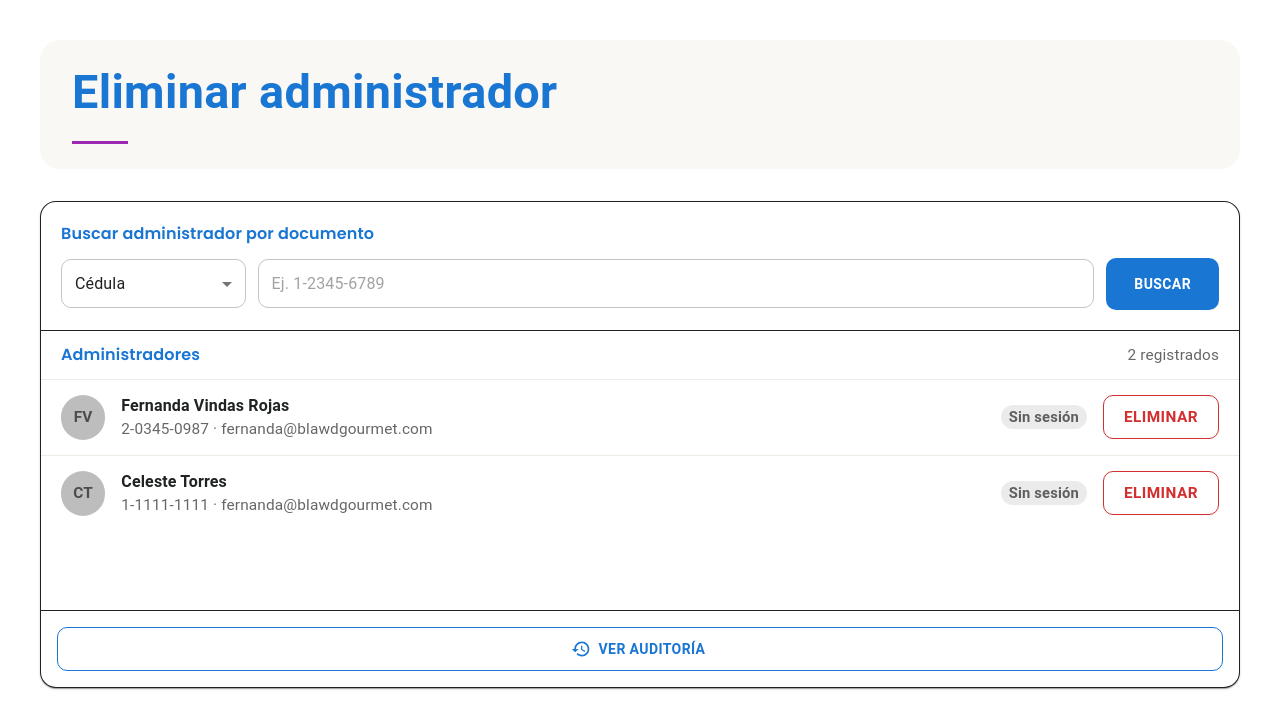
Test: AdminManagement audit log › filters the administrators by document and says when none matches
Check: the text "Celeste Torres" is shown, box x1=121 y1=472 x2=227 y2=491
In the field named "Número de documento": coordinates (676, 284) x1=258 y1=260 x2=1094 y2=308, type "1111"
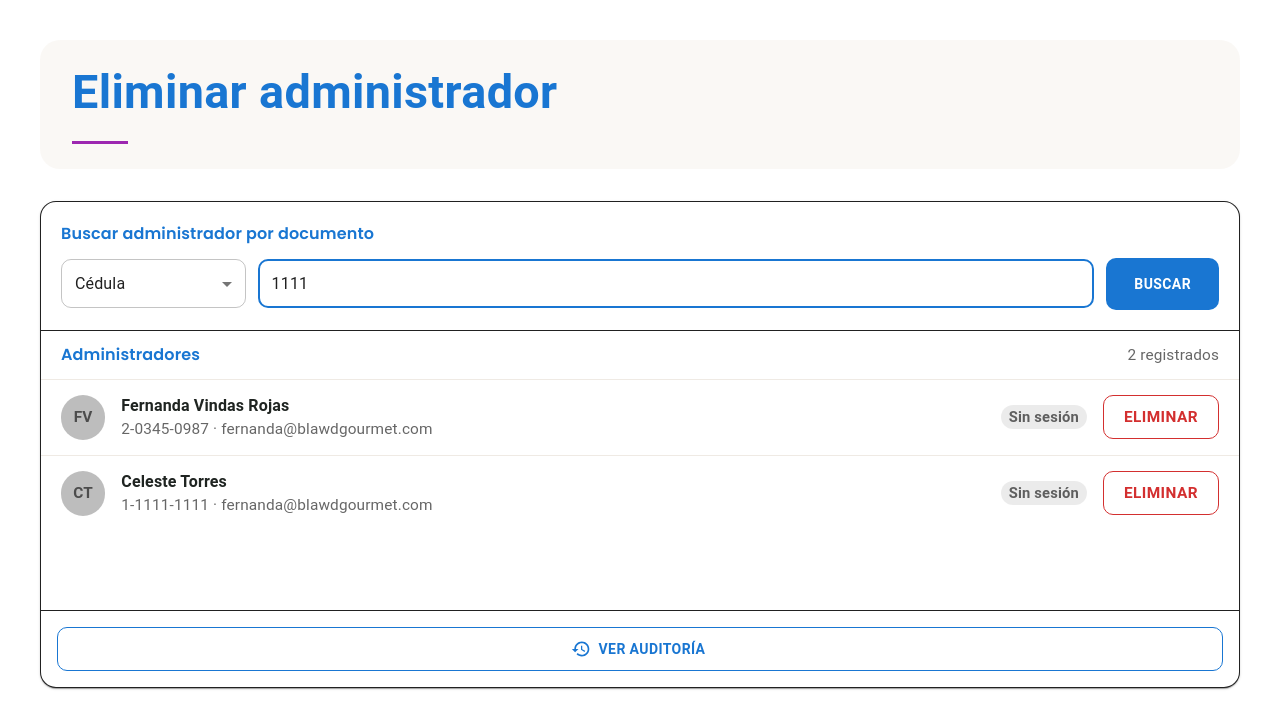
Click the button "Buscar": coordinates (1163, 284) x1=1106 y1=258 x2=1219 y2=310
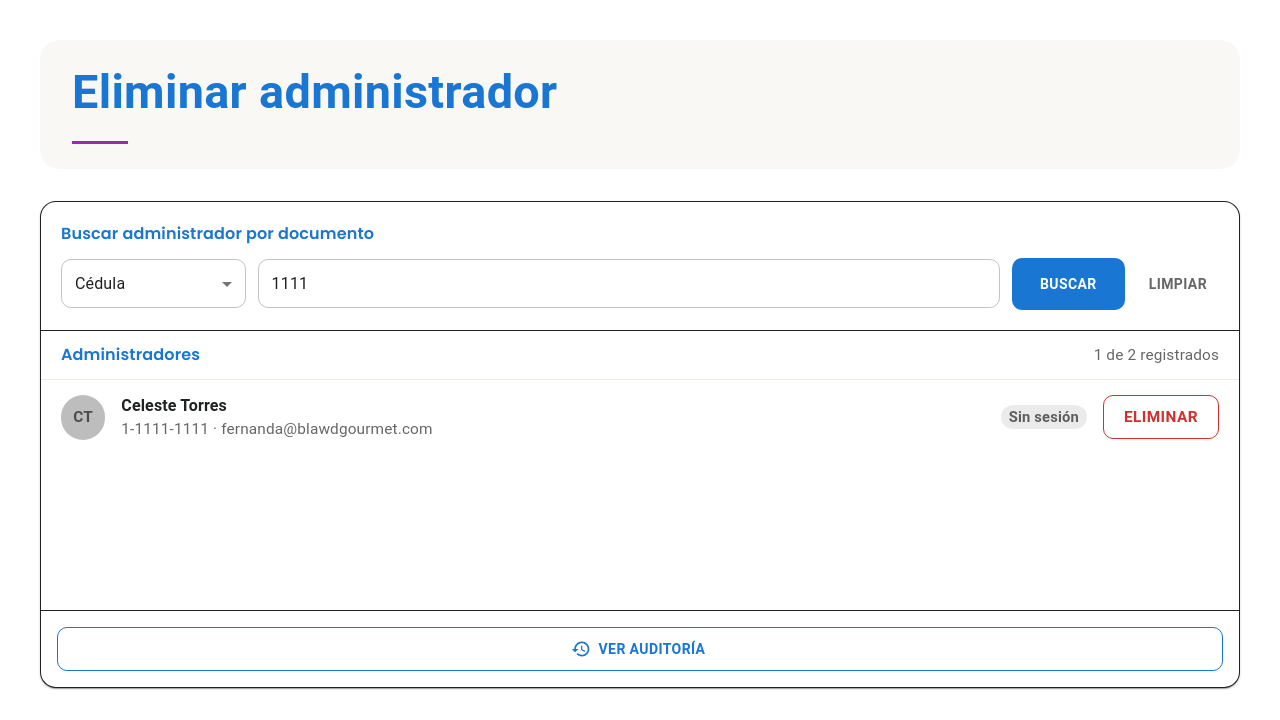
Check: the text "Fernanda Vindas Rojas" is gone
Check: the text "1 de 2 registrados" is shown, box x1=1094 y1=344 x2=1219 y2=367
Replace the text in the field named "Número de documento" with "999": coordinates (629, 284) x1=258 y1=260 x2=1000 y2=308
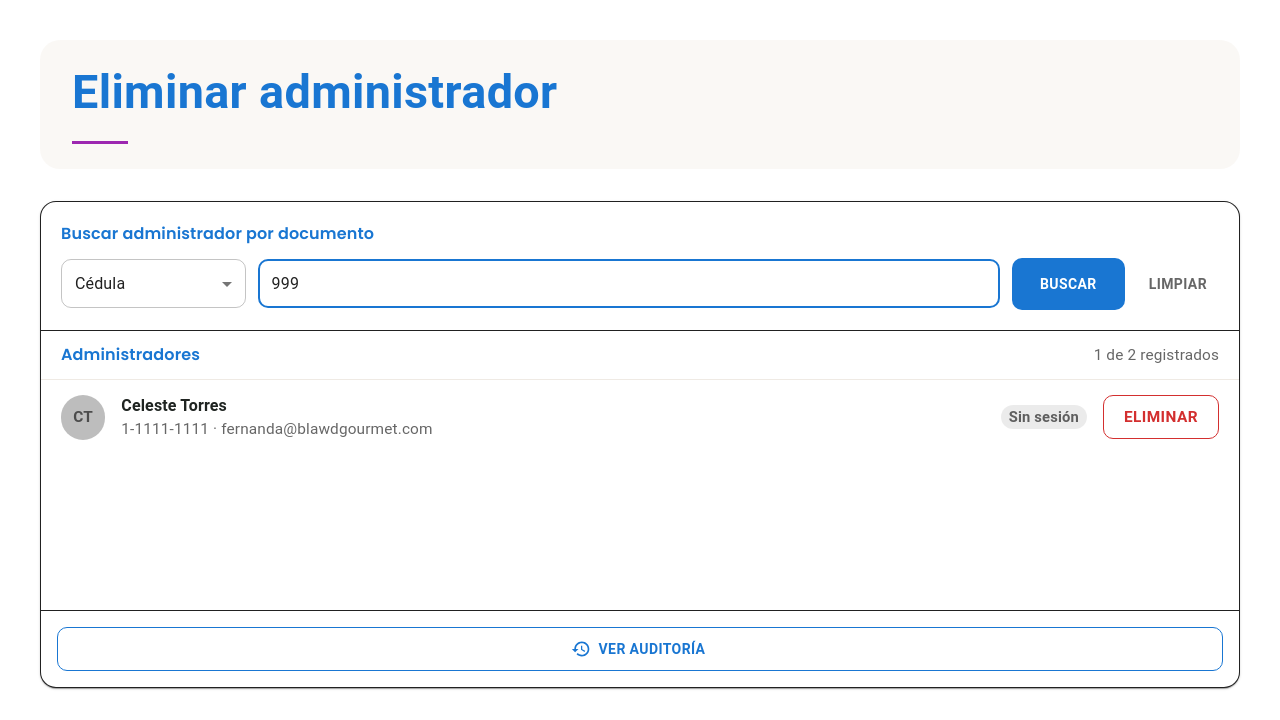
Click the button "Buscar": coordinates (1068, 284) x1=1012 y1=258 x2=1125 y2=310
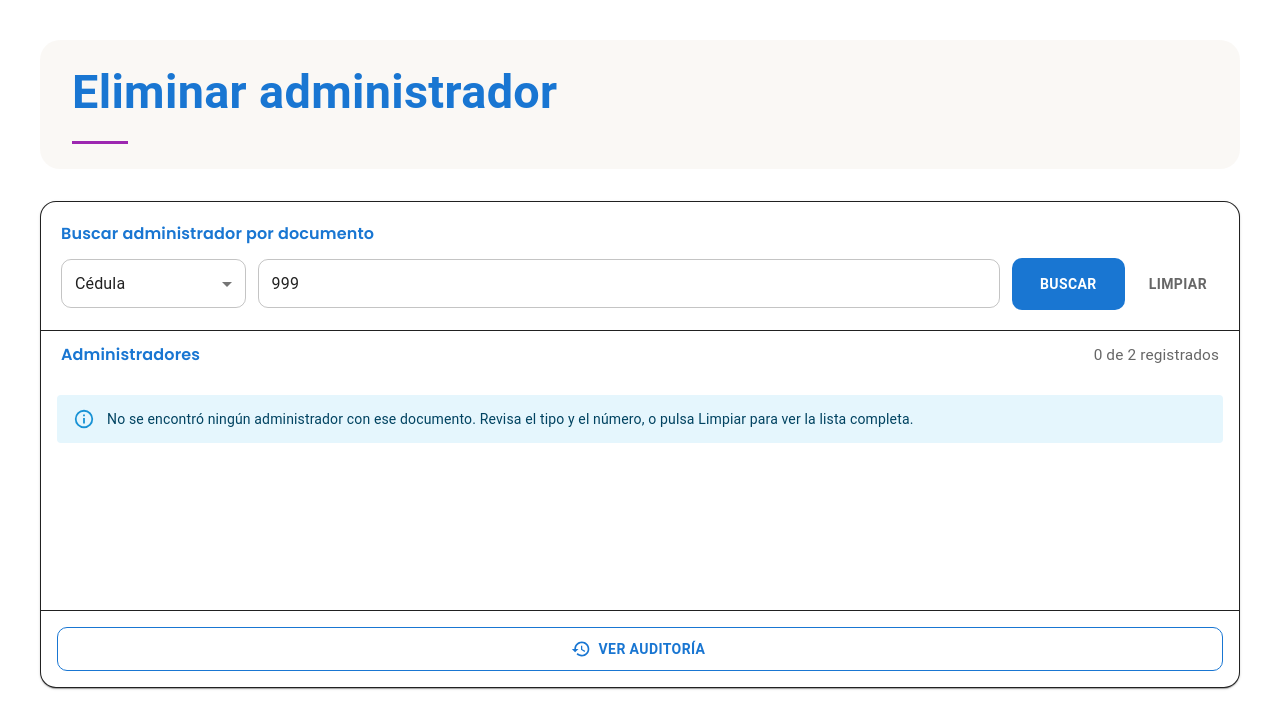
Check: the text "No se encontró ningún administrador con ese documento" is shown, box x1=107 y1=411 x2=914 y2=427
